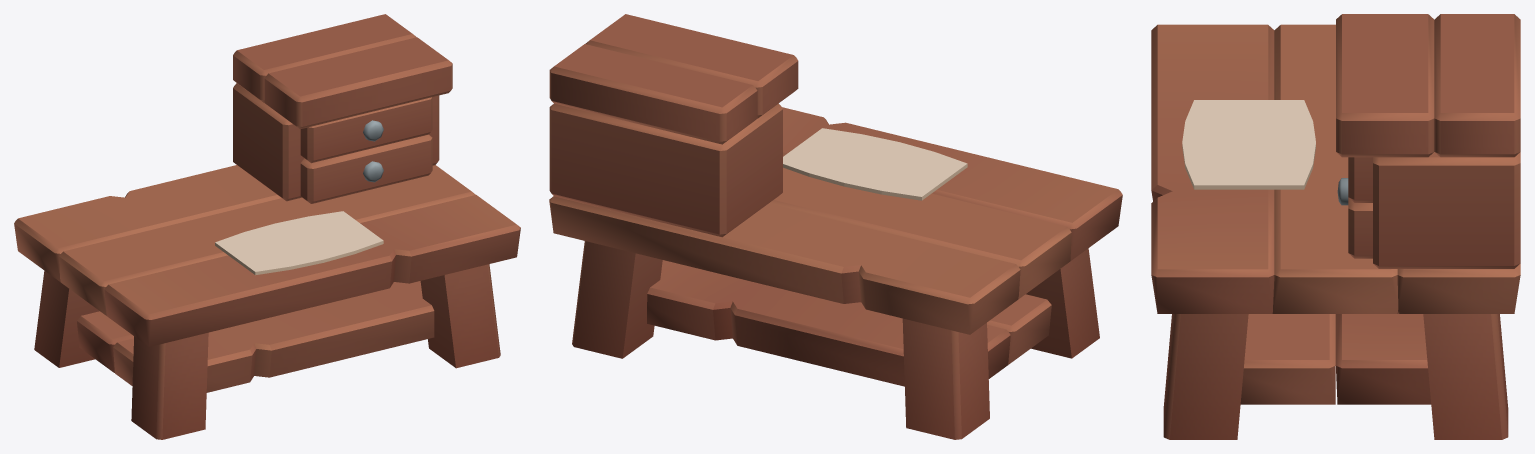
The model's file is Potionstation.obj.
The picture shows the model from 3 angles, left to right: view 1: azimuth 30°, elevation 25°; view 2: azimuth 150°, elevation 25°; view 3: azimuth 270°, elevation 25°; orthographic projection. The views are drawn at different scales.
Visible parts, largest first — view 1: Potionstation; view 2: Potionstation; view 3: Potionstation.
Boxes of the visible parts, x1=… form: Potionstation: x1=14, y1=14, x2=520, y2=439; Potionstation: x1=549, y1=14, x2=1122, y2=439; Potionstation: x1=1151, y1=14, x2=1520, y2=439.
Size of the model in its own units: 2.4 by 1.5 by 1.5.
1 material, 1 textured.
